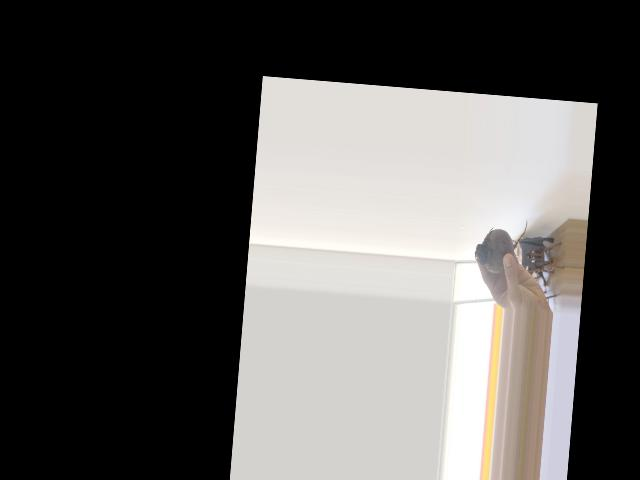beet: (473, 214, 527, 275)
